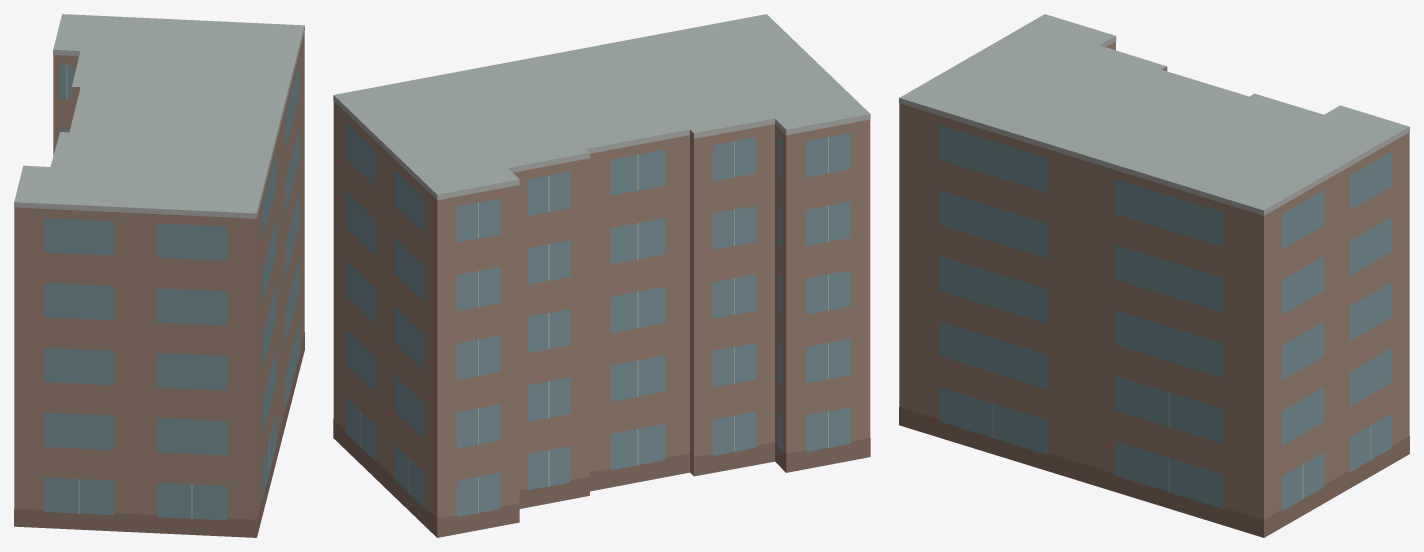
Rendered from survey-upis-32993009.glb.
3 views of the same model, side by side, from view 1: azimuth 30°, elevation 25°; view 2: azimuth 150°, elevation 25°; view 3: azimuth 270°, elevation 25° (orthographic). The views are drawn at different scales.
Visible parts, largest first — view 1: survey-upis-32993009.tmp; view 2: survey-upis-32993009.tmp; view 3: survey-upis-32993009.tmp.
Boxes of the visible parts, x1,y1,x2,y2 form: survey-upis-32993009.tmp: (14, 14, 304, 537); survey-upis-32993009.tmp: (333, 14, 870, 537); survey-upis-32993009.tmp: (899, 14, 1409, 537).
Bounding box in the file's own units: 19.33 × 15 × 21.22.
